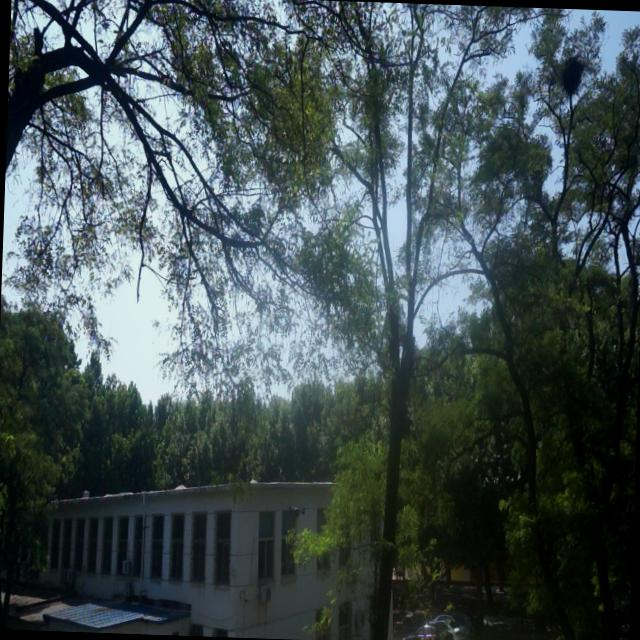drone: (287, 502, 306, 520)
